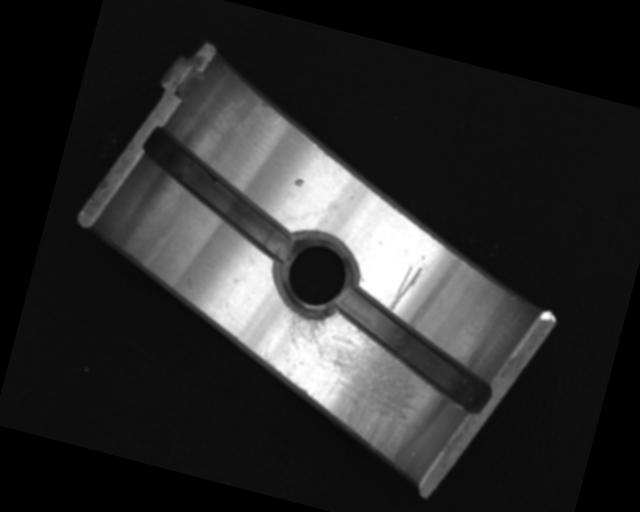bruise: (291, 177, 305, 189)
gap: (125, 126, 316, 264), (321, 284, 509, 417)
hole: (265, 227, 368, 326)
nick: (388, 260, 424, 317)
scratch: (252, 303, 432, 464)
